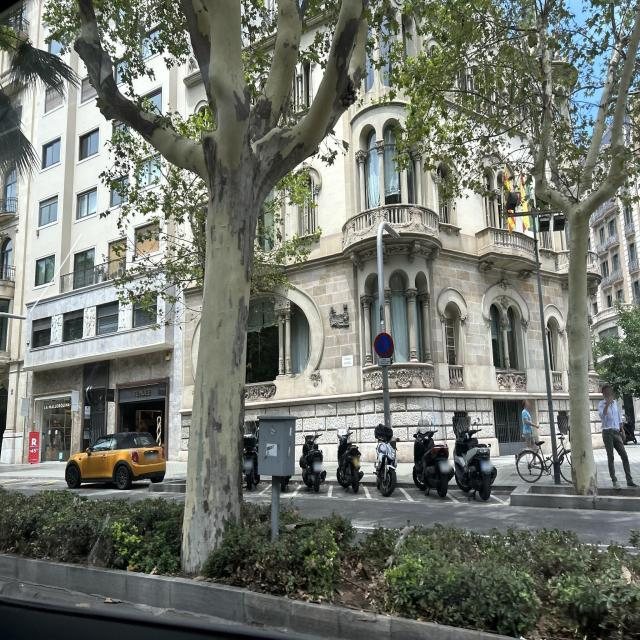forb_stopping: (374, 333, 394, 358)
